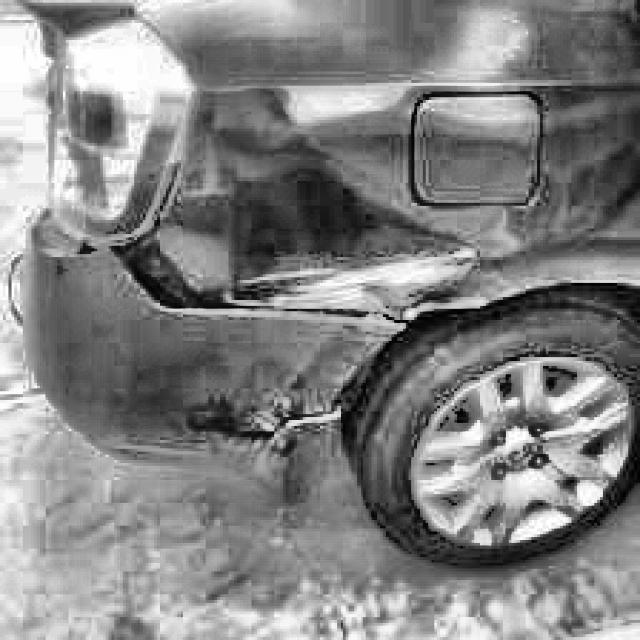bumper_dent: (206, 168, 462, 287)
bumper_scratch: (252, 265, 465, 298)
